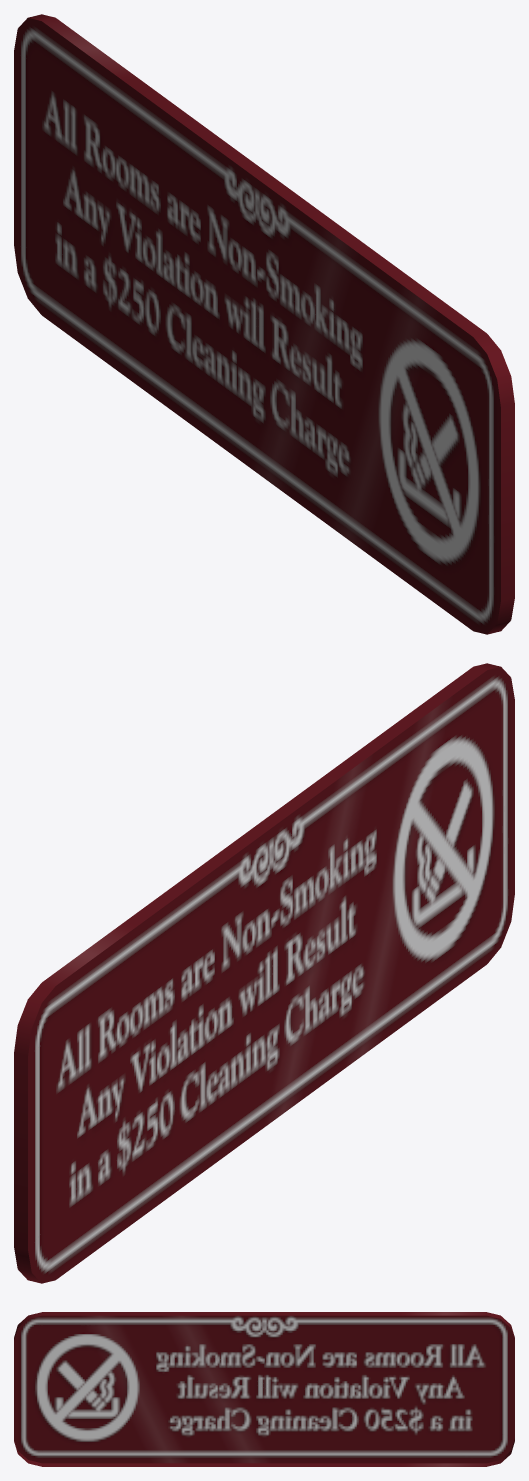
The model's file is NoSmokingSign.fbx.
The picture shows the model from 3 angles, top to bottom: view 1: azimuth 30°, elevation 25°; view 2: azimuth 150°, elevation 25°; view 3: azimuth 270°, elevation 25°; orthographic projection. The views are drawn at different scales.
Visible parts, largest first — view 1: Plane; view 2: Plane; view 3: Plane.
Part boxes in pixels (left/top/right/bottom): Plane: left=14, top=14, right=514, bottom=634; Plane: left=14, top=663, right=514, bottom=1283; Plane: left=14, top=1312, right=514, bottom=1466.
Size of the model in its own units: 1 by 20 by 60.
